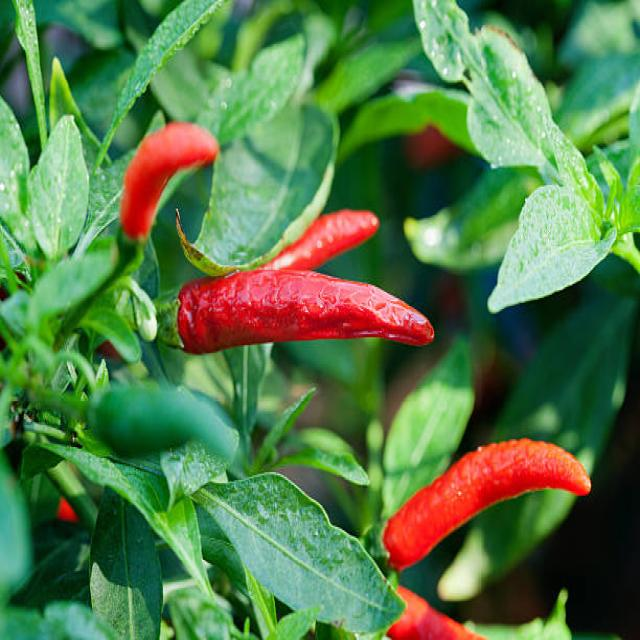Ripe: (383, 439, 591, 571), (178, 267, 433, 353), (259, 204, 383, 271)
